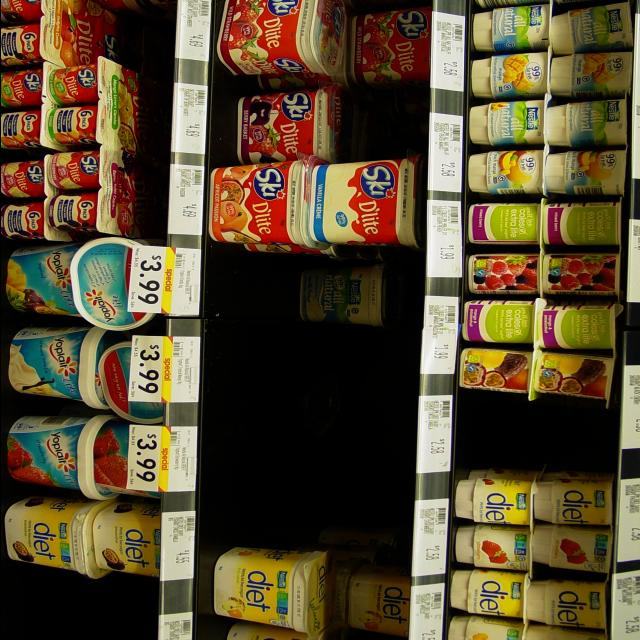empty_space: (200, 328, 406, 544), (464, 404, 612, 468), (10, 585, 155, 640), (207, 262, 289, 326)
